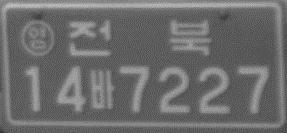1: (18, 64, 50, 112)
2: (197, 65, 230, 115), (157, 65, 190, 114)
4: (55, 65, 85, 111)
7: (237, 64, 270, 114), (119, 64, 150, 112)
바: (89, 69, 115, 110)
영: (19, 18, 55, 58)
전북_D: (67, 18, 212, 59)
